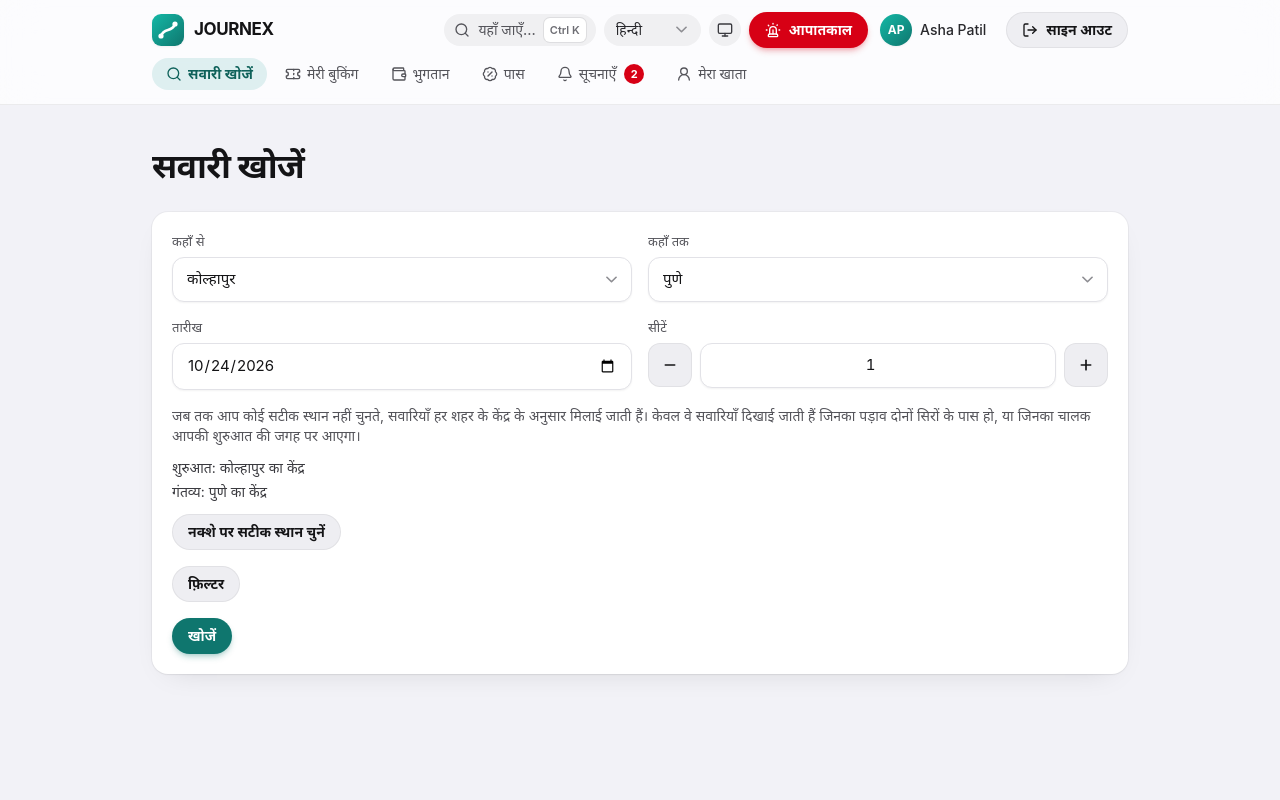
the app in another language › shows a server explanation it does not know as it came, in English
Click the button "खोजें": {"x": 202, "y": 636} [172, 618, 232, 654]
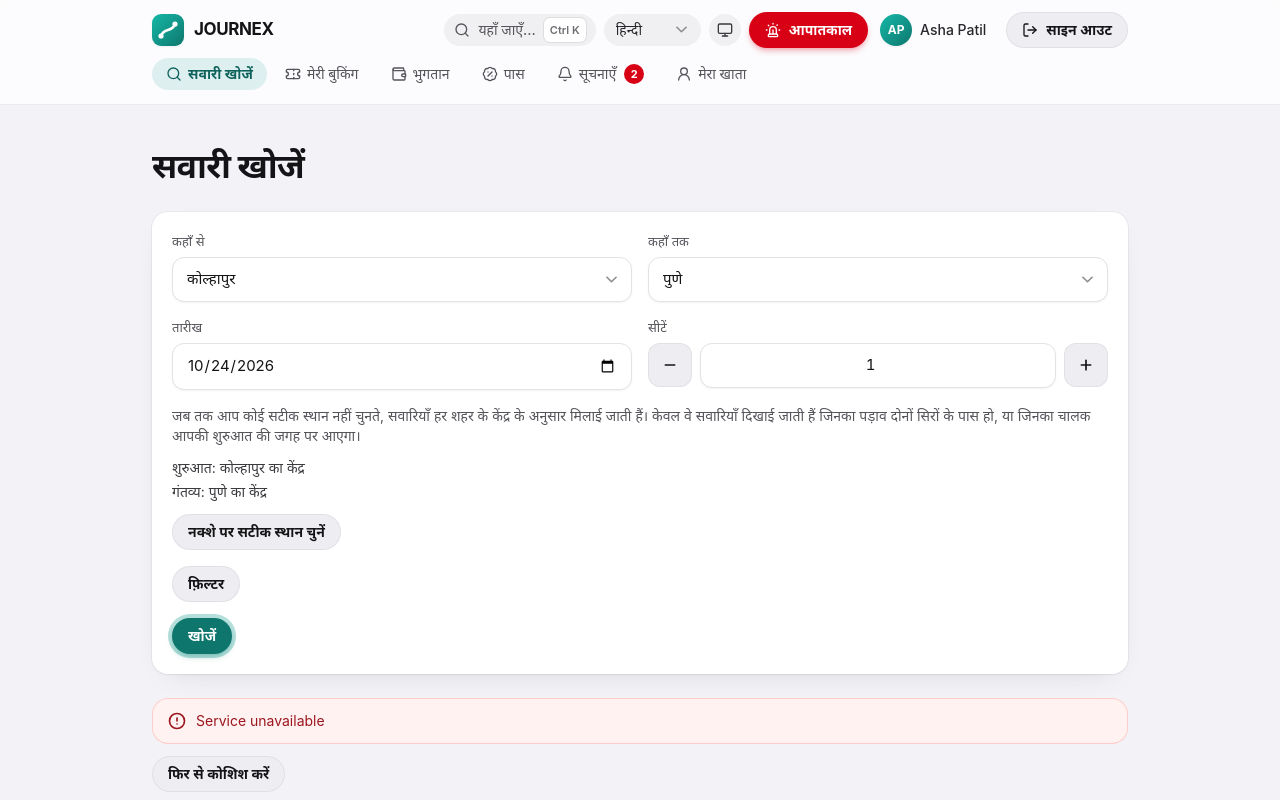
Now the message reads "Service unavailable", box [196, 712, 325, 728]
Now the button "फिर से कोशिश करें" is shown, box [152, 756, 285, 792]
